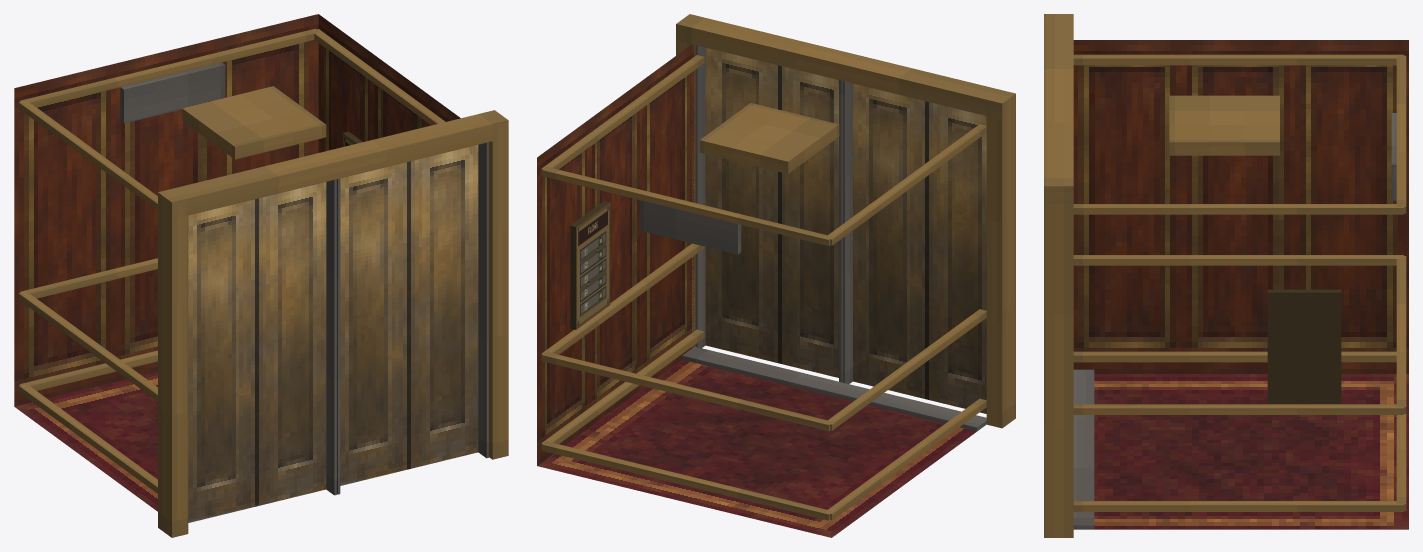
The model's file is elevator.glb.
3 renders of one model, left to right at view 1: azimuth 30°, elevation 25°; view 2: azimuth 150°, elevation 25°; view 3: azimuth 270°, elevation 25°, orthographic. The views are drawn at different scales.
Visible parts, largest first — view 1: Cab, RightLeaf, LeftLeaf, DoorFrame; view 2: Cab, LeftLeaf, RightLeaf, DoorFrame, Face, Back; view 3: Cab, DoorFrame, Back.
Part boxes in pixels (left/top/right/bottom): Cab: left=14, top=14, right=474, bottom=522; RightLeaf: left=337, top=142, right=488, bottom=494; LeftLeaf: left=188, top=179, right=336, bottom=521; DoorFrame: left=158, top=110, right=508, bottom=537; Cab: left=537, top=44, right=986, bottom=537; LeftLeaf: left=842, top=81, right=986, bottom=413; RightLeaf: left=695, top=45, right=842, bottom=382; DoorFrame: left=676, top=14, right=1015, bottom=428; Face: left=576, top=202, right=610, bottom=329; Back: left=570, top=201, right=609, bottom=329; Cab: left=1073, top=40, right=1408, bottom=529; DoorFrame: left=1044, top=14, right=1073, bottom=537; Back: left=1267, top=289, right=1341, bottom=403.
Size of the model in its own units: 3.32 by 3.16 by 2.97.
3 materials, 2 textured.
